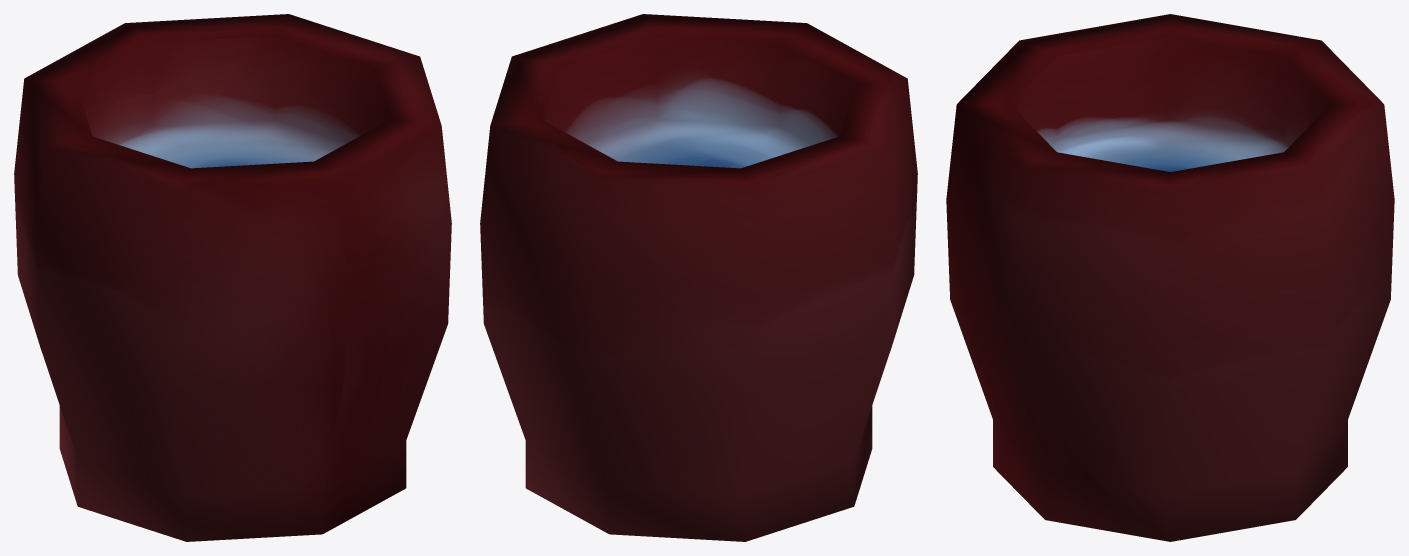
File: CupProp.fbx
3 renders of one model, left to right at view 1: azimuth 30°, elevation 25°; view 2: azimuth 150°, elevation 25°; view 3: azimuth 270°, elevation 25°, orthographic.
Parts seen in each view (by area): view 1: Cup:Cup_1; view 2: Cup:Cup_1; view 3: Cup:Cup_1.
Part boxes in pixels (x1=…): Cup:Cup_1: x1=14, y1=14, x2=451, y2=541; Cup:Cup_1: x1=480, y1=14, x2=917, y2=541; Cup:Cup_1: x1=946, y1=14, x2=1394, y2=541.
Bounding box in the file's own units: 2.1 × 1.87 × 2.1.
